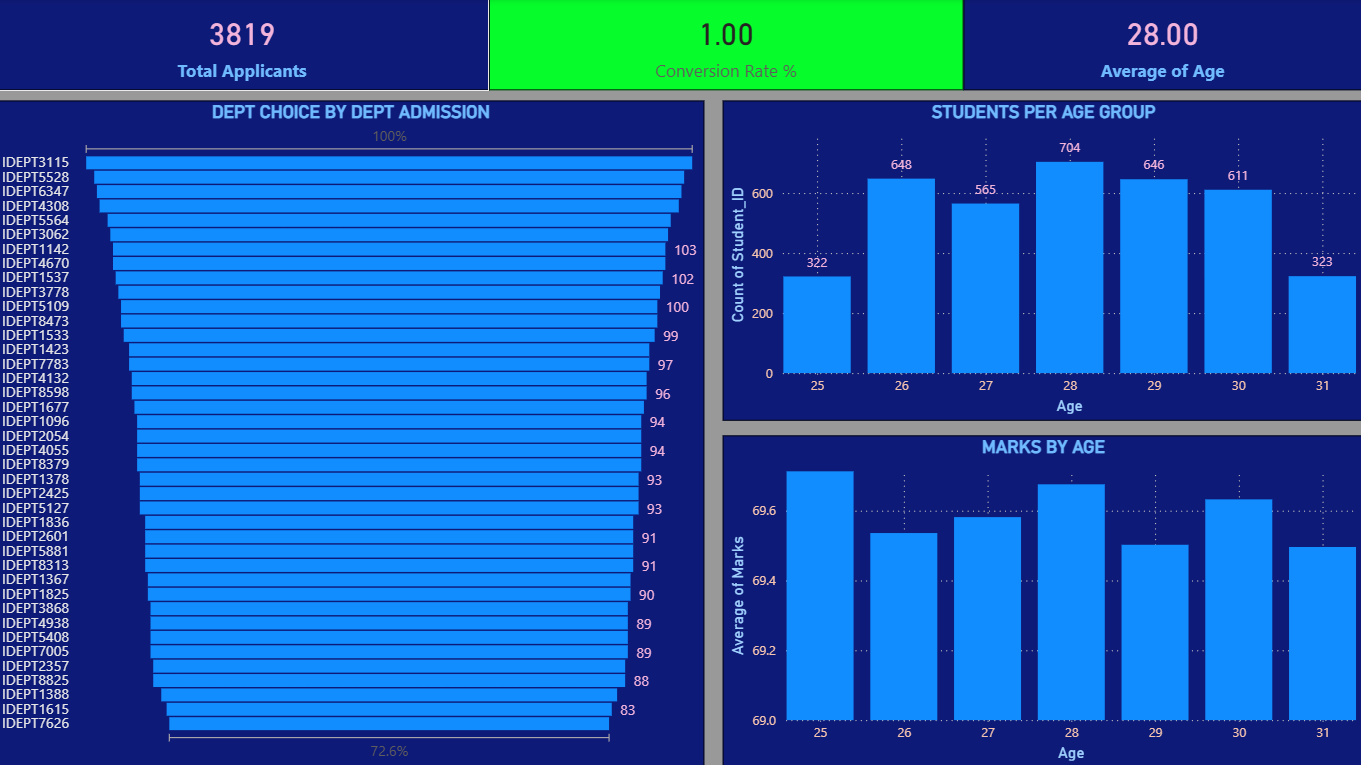

The dashboard page shown, as its layout file describes it:
{"tool":"powerbi","page":{"name":"Counselling","canvas":[1280,720],"ordinal":5},"visuals":[{"type":"card","fields":{"Values":["Stu Details.Conversion Rate %"]},"box":[461.6,0,444.5,86.6],"z":0},{"type":"card","fields":{"Values":["Stu Details.Total Applicants"]},"box":[0,0,461.6,86.6],"z":1000},{"type":"card","fields":{"Values":["Avg(Stu Details.Age)"]},"box":[906.1,0,373.5,86.6],"z":2000},{"type":"funnel","title":"DEPT CHOICE BY DEPT ADMISSION","fields":{"Category":["Stu Details.Department_Admission"],"Y":["CountNonNull(Stu Details.Department_Choices)"]},"box":[0,96.6,663.2,623.5],"z":3000},{"type":"clusteredColumnChart","title":"STUDENTS PER AGE GROUP","fields":{"Category":["Stu Details.Age"],"Y":["Count(Stu Details.Student_ID)"]},"box":[680.3,96.6,599.3,299.7],"z":4000},{"type":"clusteredColumnChart","title":"MARKS BY AGE","fields":{"Category":["Stu Details.Age"],"Y":["Avg(Stu Perform.Marks)"]},"box":[680.3,409,599.3,311],"z":5000}]}

Visuals, with their boxes in screenshot pixels (x1, y1, x2, y2), scaled from the page's 1280x720 canvas onto the 1361x765 screenshot:
card - Stu Details.Conversion Rate %: {"left": 491, "top": 0, "right": 963, "bottom": 92}
card - Stu Details.Total Applicants: {"left": 0, "top": 0, "right": 491, "bottom": 92}
card - Avg(Stu Details.Age): {"left": 963, "top": 0, "right": 1360, "bottom": 92}
"DEPT CHOICE BY DEPT ADMISSION" funnel: {"left": 0, "top": 103, "right": 705, "bottom": 764}
"STUDENTS PER AGE GROUP" clusteredColumnChart: {"left": 723, "top": 103, "right": 1360, "bottom": 421}
"MARKS BY AGE" clusteredColumnChart: {"left": 723, "top": 435, "right": 1360, "bottom": 764}
